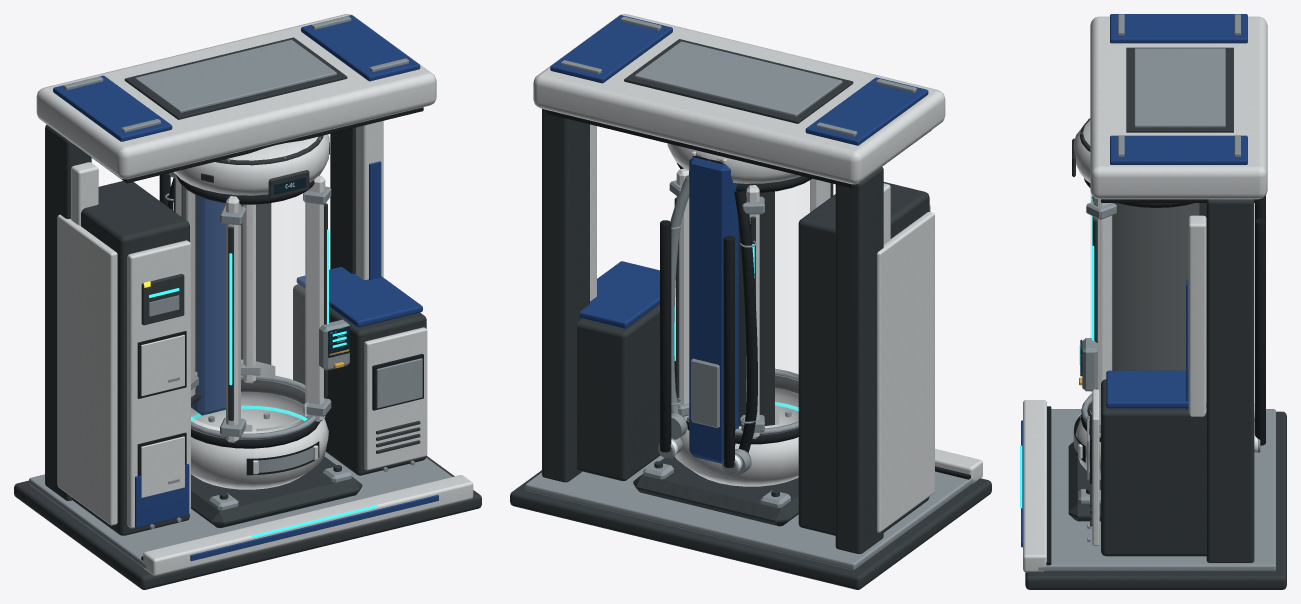
Rendered from 07_hero_pod_cradle.gltf.
3 views of the same model, side by side, from view 1: azimuth 30°, elevation 25°; view 2: azimuth 150°, elevation 25°; view 3: azimuth 270°, elevation 25° (orthographic). The views are drawn at different scales.
Visible parts, largest first — view 1: 07_Cryo_Ceramic_Enamel, 07_Cryo_Anodized_Frame, 07_Cryo_Clear_Inspection_Glass, 07_Cryo_Brushed_Steel, 07_Cryo_Cobalt_Enamel, 07_Cryo_EPDM_Gasket, 07_Cryo_Cyan_Practical; view 2: 07_Cryo_Anodized_Frame, 07_Cryo_Ceramic_Enamel, 07_Cryo_Brushed_Steel, 07_Cryo_Cobalt_Enamel, 07_Cryo_EPDM_Gasket, 07_Cryo_Clear_Inspection_Glass; view 3: 07_Cryo_Anodized_Frame, 07_Cryo_Ceramic_Enamel, 07_Cryo_Brushed_Steel, 07_Cryo_Clear_Inspection_Glass, 07_Cryo_Cobalt_Enamel, 07_Cryo_EPDM_Gasket, 07_Cryo_Cyan_Practical.
Boxes of the visible parts, x1=… form: 07_Cryo_Ceramic_Enamel: x1=36, y1=14, x2=473, y2=575; 07_Cryo_Anodized_Frame: x1=14, y1=37, x2=481, y2=589; 07_Cryo_Clear_Inspection_Glass: x1=183, y1=186, x2=307, y2=429; 07_Cryo_Brushed_Steel: x1=29, y1=16, x2=452, y2=568; 07_Cryo_Cobalt_Enamel: x1=53, y1=15, x2=438, y2=560; 07_Cryo_EPDM_Gasket: x1=74, y1=107, x2=423, y2=560; 07_Cryo_Cyan_Practical: x1=149, y1=202, x2=377, y2=537; 07_Cryo_Anodized_Frame: x1=510, y1=39, x2=991, y2=589; 07_Cryo_Ceramic_Enamel: x1=533, y1=14, x2=982, y2=532; 07_Cryo_Brushed_Steel: x1=525, y1=16, x2=975, y2=570; 07_Cryo_Cobalt_Enamel: x1=550, y1=15, x2=928, y2=463; 07_Cryo_EPDM_Gasket: x1=546, y1=110, x2=970, y2=479; 07_Cryo_Clear_Inspection_Glass: x1=775, y1=179, x2=817, y2=422; 07_Cryo_Anodized_Frame: x1=1025, y1=47, x2=1286, y2=589; 07_Cryo_Ceramic_Enamel: x1=1023, y1=16, x2=1267, y2=572; 07_Cryo_Brushed_Steel: x1=1038, y1=14, x2=1275, y2=571; 07_Cryo_Clear_Inspection_Glass: x1=1090, y1=193, x2=1198, y2=410; 07_Cryo_Cobalt_Enamel: x1=1021, y1=14, x2=1247, y2=547; 07_Cryo_EPDM_Gasket: x1=1046, y1=178, x2=1265, y2=565; 07_Cryo_Cyan_Practical: x1=1020, y1=194, x2=1094, y2=508.
Size of the model in its own units: 3.3 by 3.9 by 2.22.
Materials: 12 (8 with a texture image).
